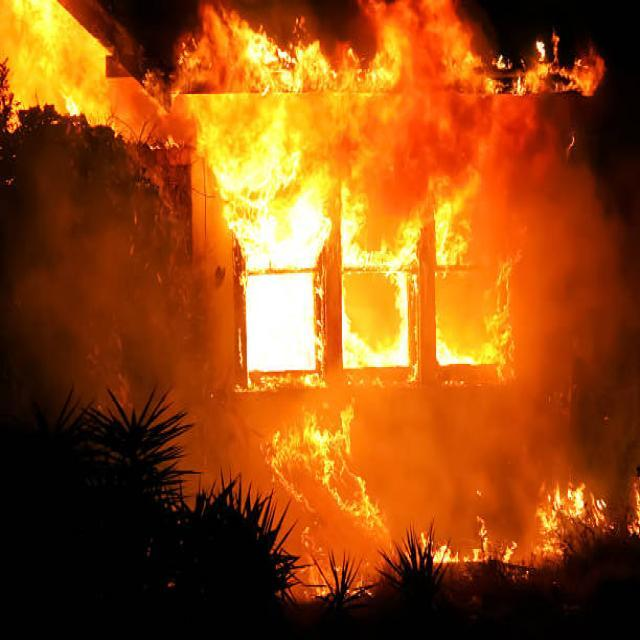Fire: (176, 0, 520, 382), (270, 404, 386, 538), (0, 0, 117, 132), (532, 478, 612, 556)
